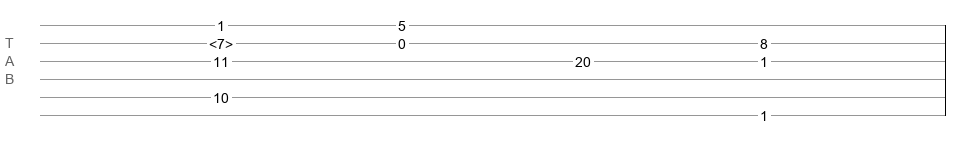0: (398, 36, 406, 46)
1: (217, 18, 225, 28), (760, 108, 768, 118), (760, 54, 768, 64)
10: (213, 90, 229, 100)
11: (213, 54, 229, 64)
20: (575, 54, 591, 64)
5: (398, 18, 406, 28)
8: (760, 36, 768, 46)
harmonic: (209, 36, 233, 46)
